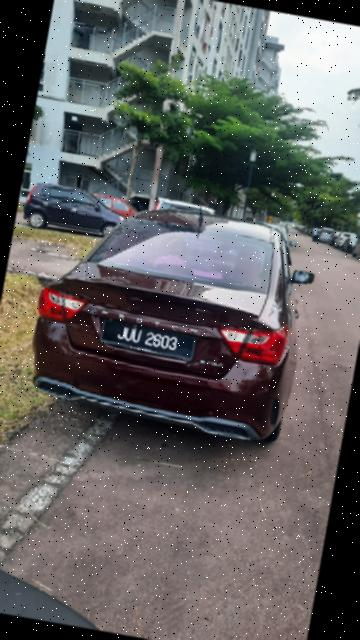License_Plate: (96, 314, 200, 366)
car: (16, 177, 332, 456)
